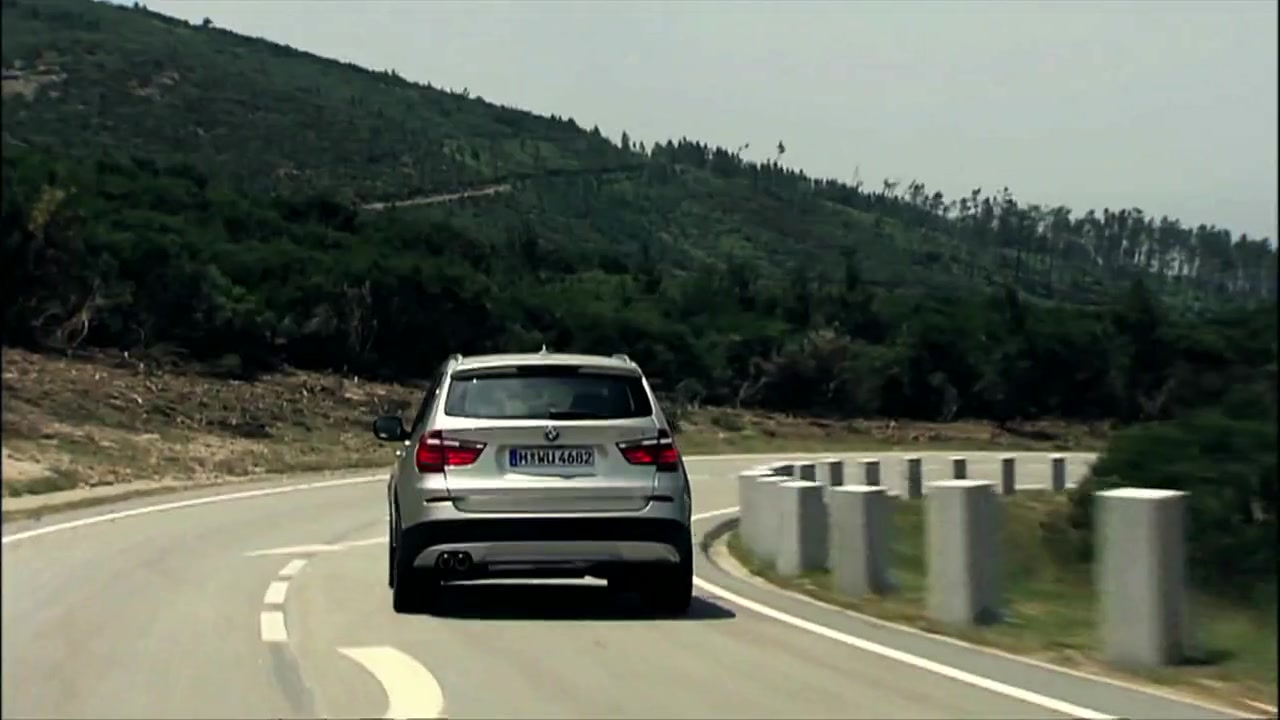car: (371, 351, 699, 611)
